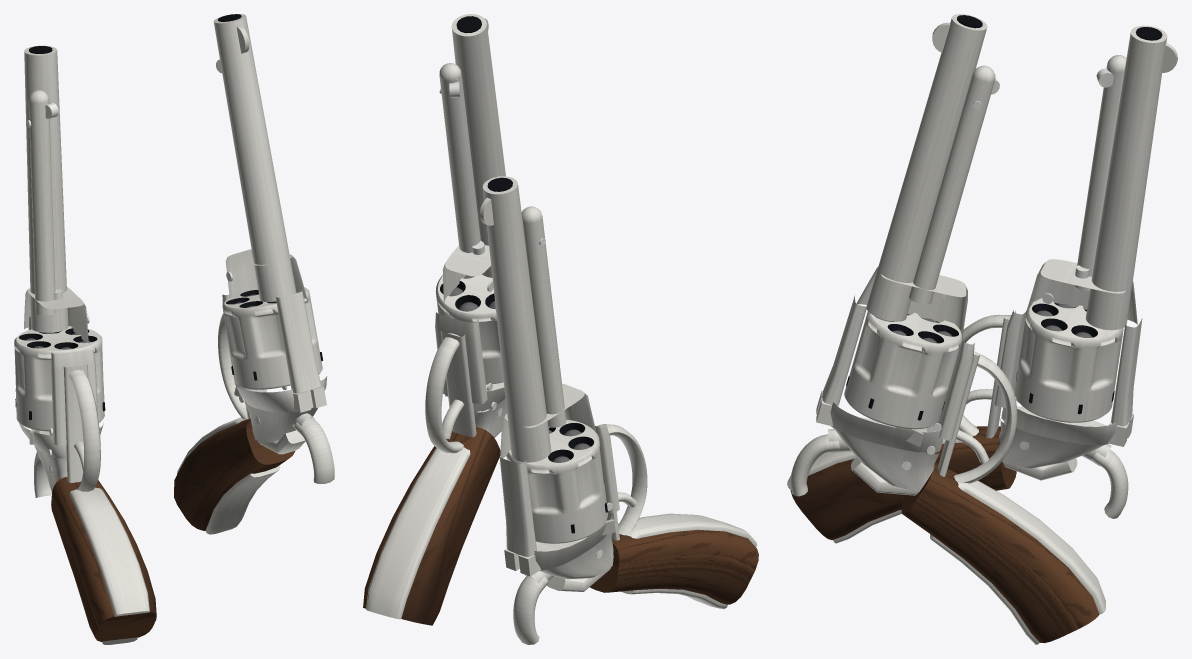
File: gun.nickel-six.gltf
3 renders of one model, left to right at view 1: azimuth 30°, elevation 25°; view 2: azimuth 150°, elevation 25°; view 3: azimuth 270°, elevation 25°, orthographic. The views are drawn at different scales.
Parts seen in each view (by area): view 1: revolver (×2); view 2: revolver (×2); view 3: revolver (×2).
Boxes of the visible parts, left/top/right/bottom form: revolver (×2): left=14, top=14, right=334, bottom=644; revolver (×2): left=363, top=14, right=758, bottom=644; revolver (×2): left=787, top=14, right=1177, bottom=644.
Size of the model in its own units: 0.1616 by 0.3355 by 0.1944.
Materials: 1 (1 with a texture image).
